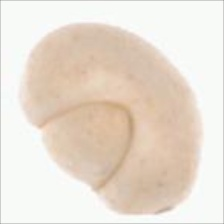L5: (37, 99, 136, 194)
L6: (17, 20, 203, 217)
